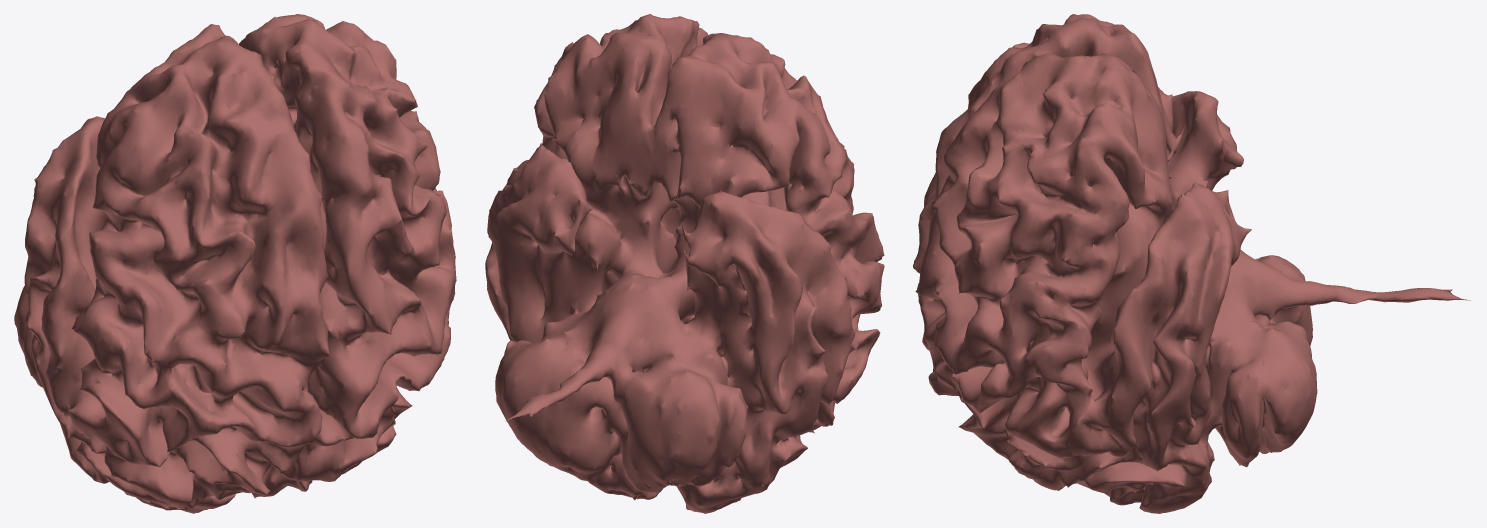
Rendered from Brain_Alz.glb.
3 views of the same model, side by side, from view 1: azimuth 30°, elevation 25°; view 2: azimuth 150°, elevation 25°; view 3: azimuth 270°, elevation 25° (orthographic). The views are drawn at different scales.
Parts seen in each view (by area): view 1: Object_2; view 2: Object_2; view 3: Object_2.
Part boxes in pixels (<box>): Object_2: <box>14,14,456,513</box>; Object_2: <box>485,14,884,513</box>; Object_2: <box>913,14,1470,513</box>.
Bounding box in the file's own units: 131 × 163 × 178.
Materials: 1 (1 with a texture image).
